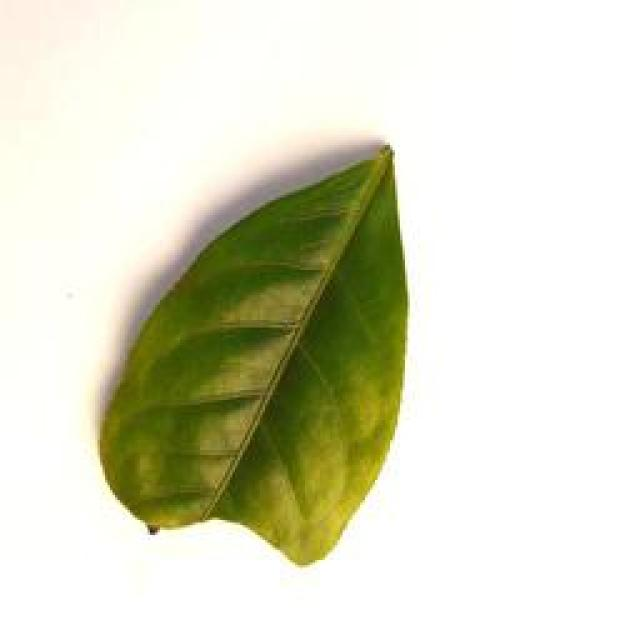Healthy: (91, 139, 418, 565)
